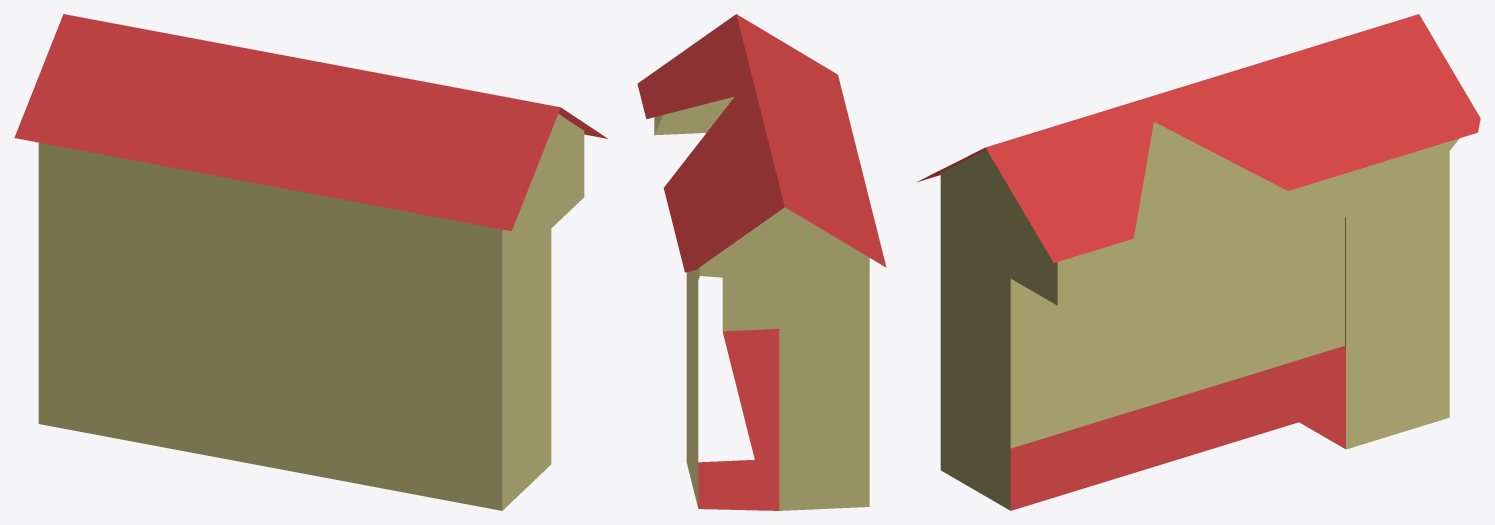
The picture shows the model from 3 angles, left to right: view 1: azimuth 30°, elevation 25°; view 2: azimuth 150°, elevation 25°; view 3: azimuth 270°, elevation 25°; orthographic projection. The views are drawn at different scales.
Bounding box in the file's own units: 13.99 × 15.63 × 11.04.
